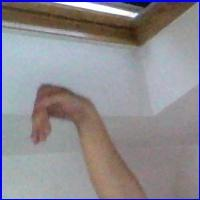del: (27, 79, 100, 153)
